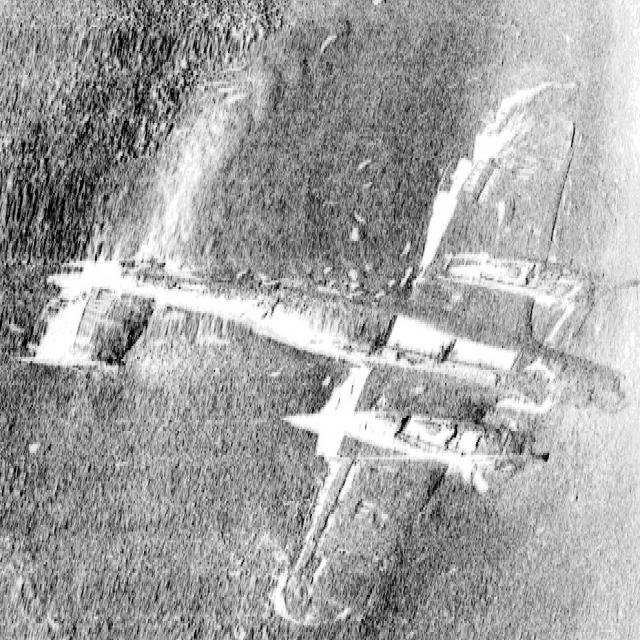plane: (19, 148, 619, 630)
